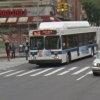Bus: (21, 18, 91, 65)
